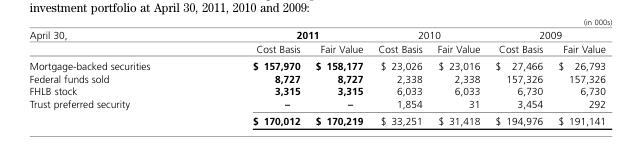table: (28, 28, 605, 126)
table column: (28, 28, 200, 126), (200, 28, 307, 126), (486, 28, 549, 126), (307, 28, 369, 126), (369, 28, 429, 126), (429, 28, 486, 126), (549, 28, 605, 126)
table column header: (28, 28, 605, 56)
table row: (28, 41, 605, 56), (28, 56, 605, 71), (28, 111, 605, 126), (28, 97, 605, 111), (28, 28, 605, 41), (28, 71, 605, 84), (28, 84, 605, 97)
table spanning cell: (28, 28, 200, 56), (200, 28, 369, 41), (486, 28, 605, 41), (369, 28, 486, 41)
